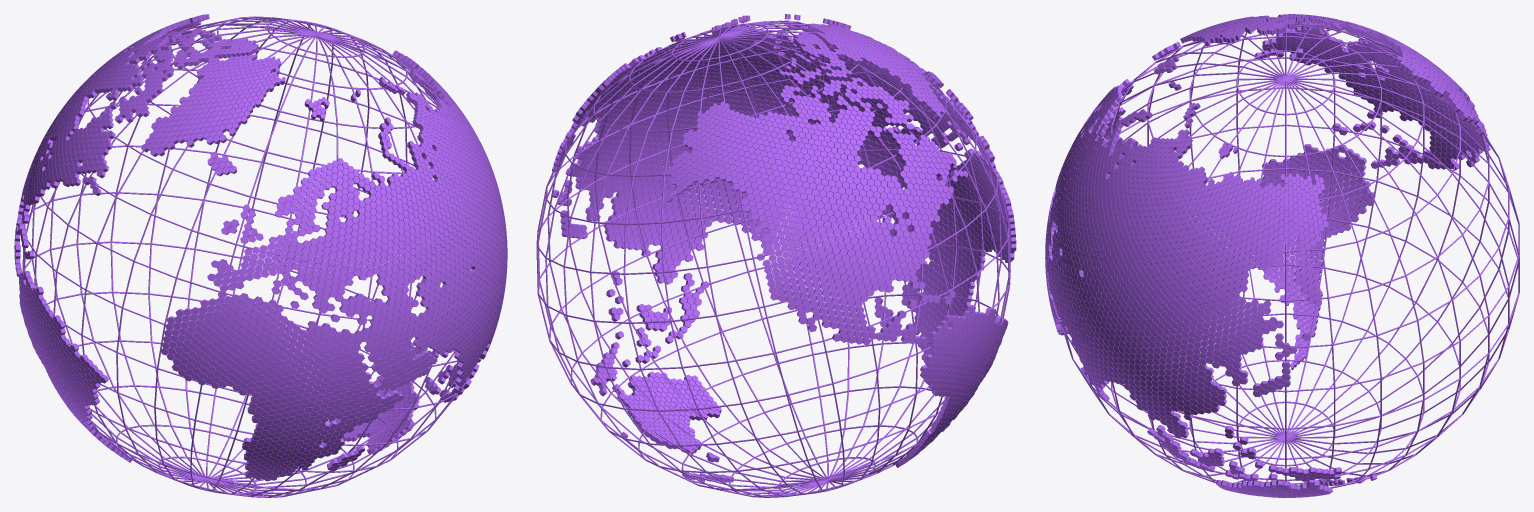
3 renders of one model, left to right at view 1: azimuth 30°, elevation 25°; view 2: azimuth 150°, elevation 25°; view 3: azimuth 270°, elevation 25°, orthographic.
Visible parts, largest first — view 1: Null1, Sphere; view 2: Null1, Sphere; view 3: Null1, Sphere.
Boxes of the visible parts, x1=… form: Null1: x1=14, y1=14, x2=507, y2=481; Sphere: x1=22, y1=16, x2=474, y2=497; Null1: x1=552, y1=14, x2=1016, y2=482; Sphere: x1=536, y1=20, x2=1010, y2=497; Null1: x1=1045, y1=14, x2=1490, y2=497; Sphere: x1=1061, y1=23, x2=1519, y2=488.
Size of what is drawn, in the model's own units: 612 by 607 by 600.
